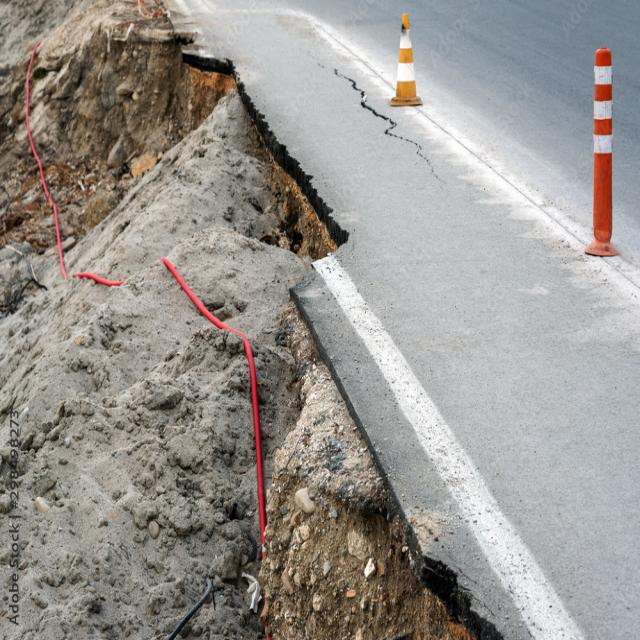Pothole: (11, 42, 626, 640)
